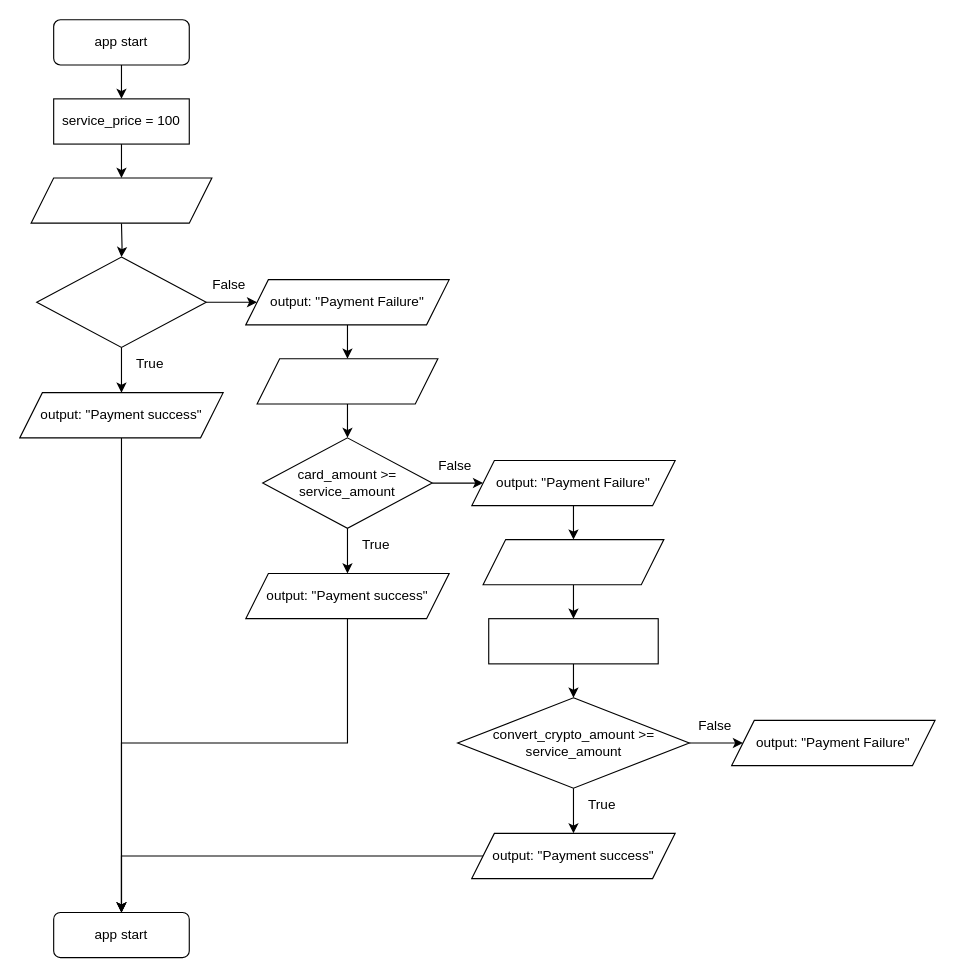
Some shapes in this 955 by 977 pixel diagram are drawn without their labels. Here are the shapes that lost their labels. From the top down, the centre of each, then its label:
(121,200): input: cash_amount
(121,301): cash_amount >= service_amount
(347,381): input: card_amount
(573,561): input: crypto_amount
(573,641): convert_crypto_amount = crypto_amount * 1000
